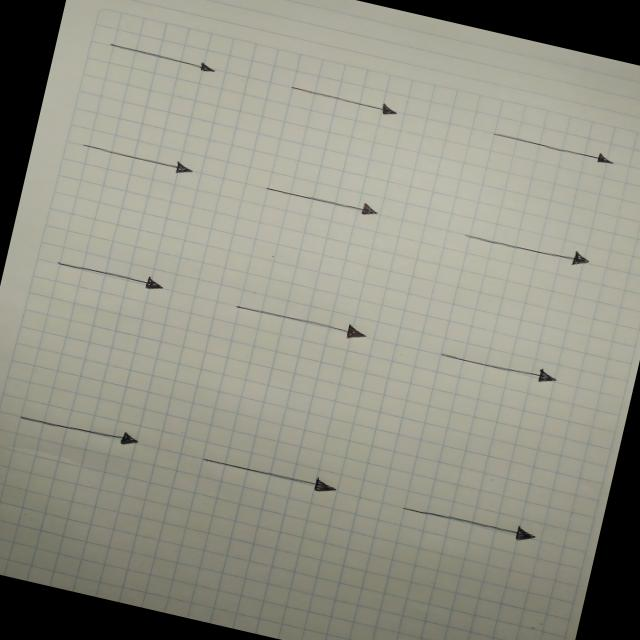arrow_line_right: (183, 440, 363, 514), (390, 488, 557, 556), (218, 288, 383, 354), (5, 394, 155, 459), (421, 334, 572, 396), (278, 70, 421, 134), (448, 217, 600, 276), (477, 116, 622, 174), (64, 128, 202, 188), (94, 24, 227, 86), (48, 242, 178, 304), (252, 171, 390, 229)
